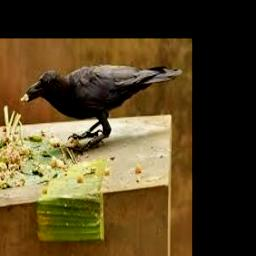Crow: (24, 64, 183, 145)
